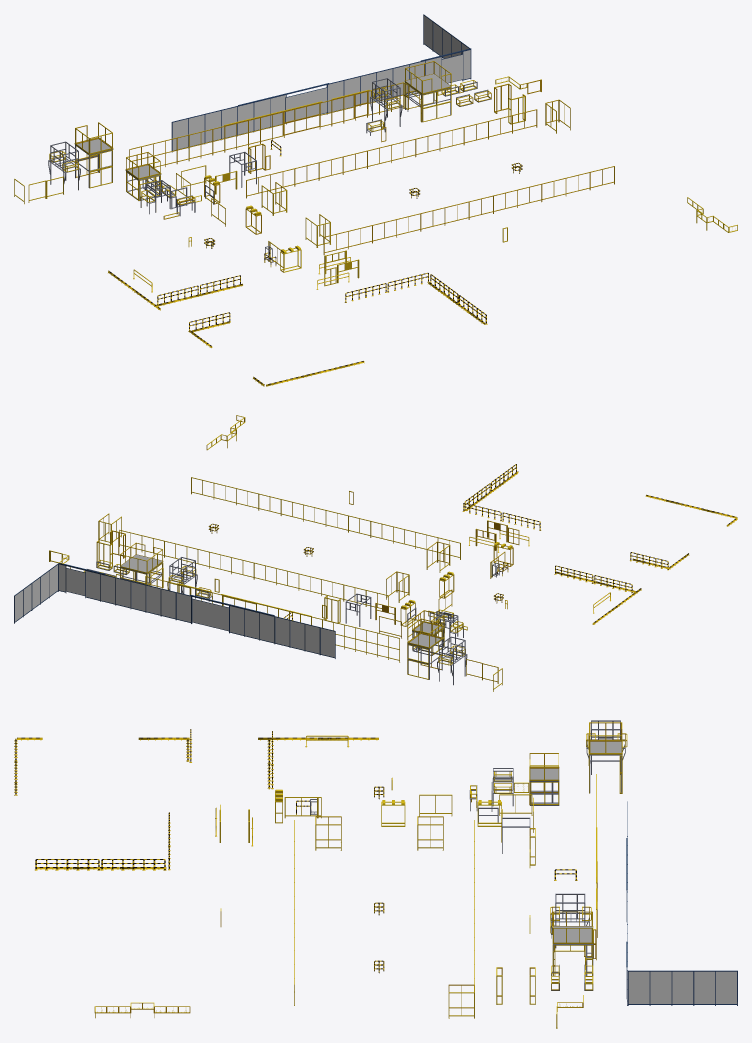
The model's file is LT_HuLan.FBX.
The picture shows the model from 3 angles, top to bottom: view 1: azimuth 30°, elevation 25°; view 2: azimuth 150°, elevation 25°; view 3: azimuth 270°, elevation 25°; orthographic projection. The views are drawn at different scales.
Visible parts, largest first — view 1: YF_Modle_HuLanWang45, YF_Modle_HuLanWang57, YF_Modle_HuLanWang50, YF_Modle_HuLanWang08, YF_Modle_HuLanWang07, YF_Modle_HuLanWang39, YF_Modle_HuLanWang43, YF_Modle_HuLanWang46, YF_Modle_HuLanWang38, YF_Modle_HuLanWang42, YF_Modle_HuLanWang49; view 2: YF_Modle_HuLanWang45, YF_Modle_HuLanWang46, YF_Modle_HuLanWang07, YF_Modle_HuLanWang08, YF_Modle_HuLanWang50, YF_Modle_HuLanWang39, YF_Modle_HuLanWang57, YF_Modle_HuLanWang43, YF_Modle_HuLanWang42, YF_Modle_HuLanWang38, YF_Modle_HuLanWang49, YF_Modle_HuLanWang44; view 3: YF_Modle_HuLanWang46, YF_Modle_HuLanWang50, YF_Modle_HuLanWang39, YF_Modle_HuLanWang38, YF_Modle_HuLanWang49.
Part boxes in pixels (x1,y1,x2,y2): YF_Modle_HuLanWang45: [171, 48, 471, 152]; YF_Modle_HuLanWang57: [129, 82, 404, 175]; YF_Modle_HuLanWang50: [404, 61, 451, 122]; YF_Modle_HuLanWang08: [246, 109, 537, 198]; YF_Modle_HuLanWang07: [323, 166, 614, 255]; YF_Modle_HuLanWang39: [74, 122, 113, 188]; YF_Modle_HuLanWang43: [285, 87, 327, 122]; YF_Modle_HuLanWang46: [423, 14, 469, 58]; YF_Modle_HuLanWang38: [125, 152, 161, 200]; YF_Modle_HuLanWang42: [48, 141, 80, 193]; YF_Modle_HuLanWang49: [370, 78, 402, 129]; YF_Modle_HuLanWang45: [58, 563, 335, 658]; YF_Modle_HuLanWang46: [14, 563, 58, 623]; YF_Modle_HuLanWang07: [191, 477, 460, 559]; YF_Modle_HuLanWang08: [119, 529, 388, 608]; YF_Modle_HuLanWang50: [120, 542, 163, 588]; YF_Modle_HuLanWang39: [407, 618, 442, 679]; YF_Modle_HuLanWang57: [145, 575, 399, 662]; YF_Modle_HuLanWang43: [192, 598, 228, 631]; YF_Modle_HuLanWang42: [437, 636, 467, 685]; YF_Modle_HuLanWang38: [412, 610, 444, 655]; YF_Modle_HuLanWang49: [167, 557, 197, 593]; YF_Modle_HuLanWang44: [66, 568, 85, 595]; YF_Modle_HuLanWang46: [627, 970, 737, 1005]; YF_Modle_HuLanWang50: [552, 911, 593, 975]; YF_Modle_HuLanWang39: [588, 722, 622, 793]; YF_Modle_HuLanWang38: [529, 753, 559, 805]; YF_Modle_HuLanWang49: [550, 893, 591, 948].
Size of the model in its own units: 4495 by 434 by 4750.
